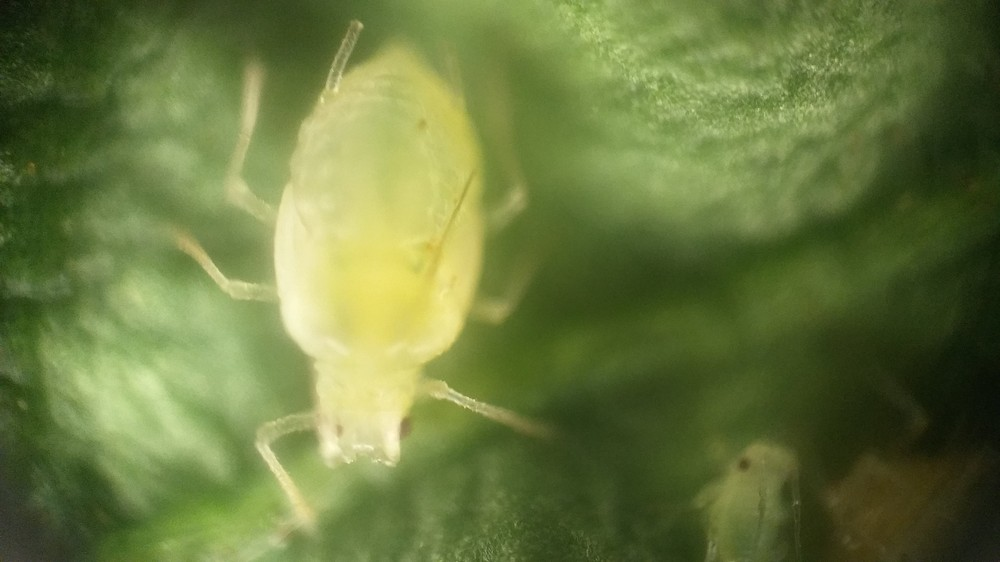Pulgon: (157, 18, 607, 541)
